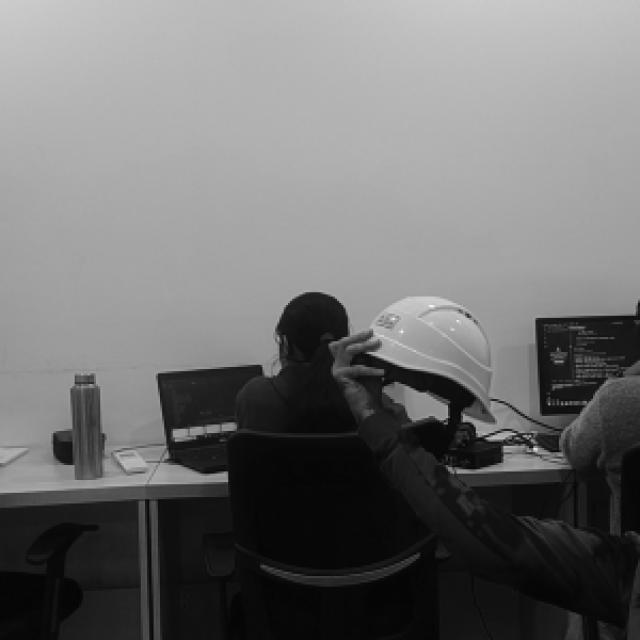safety_helmet: (367, 296, 497, 424)
